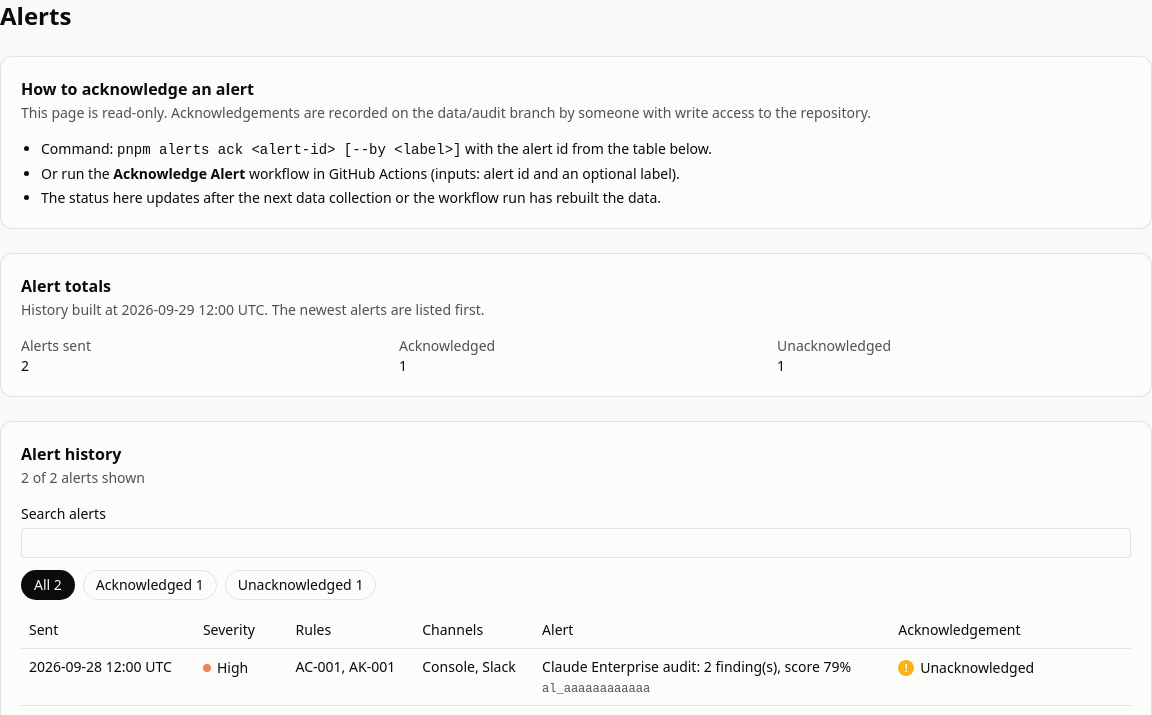
Test case: Alerts page › searches and reports no match
Step 1. Type "discord" into the search field labelled "Search alerts" → (576, 543), box [21,528,1131,558]
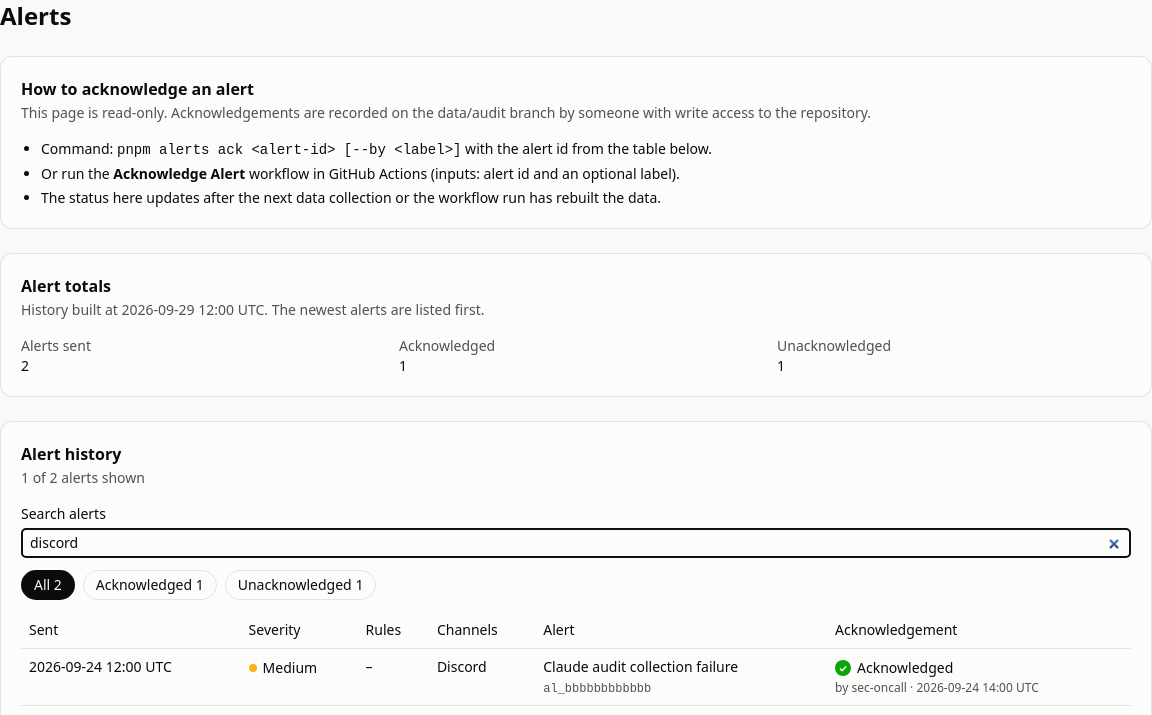
Check: the text "1 of 2 alerts shown" is shown, box [21,468,145,487]
Step 2. Replace the text in the search field labelled "Search alerts" with "zzzz" → (576, 543), box [21,528,1131,558]
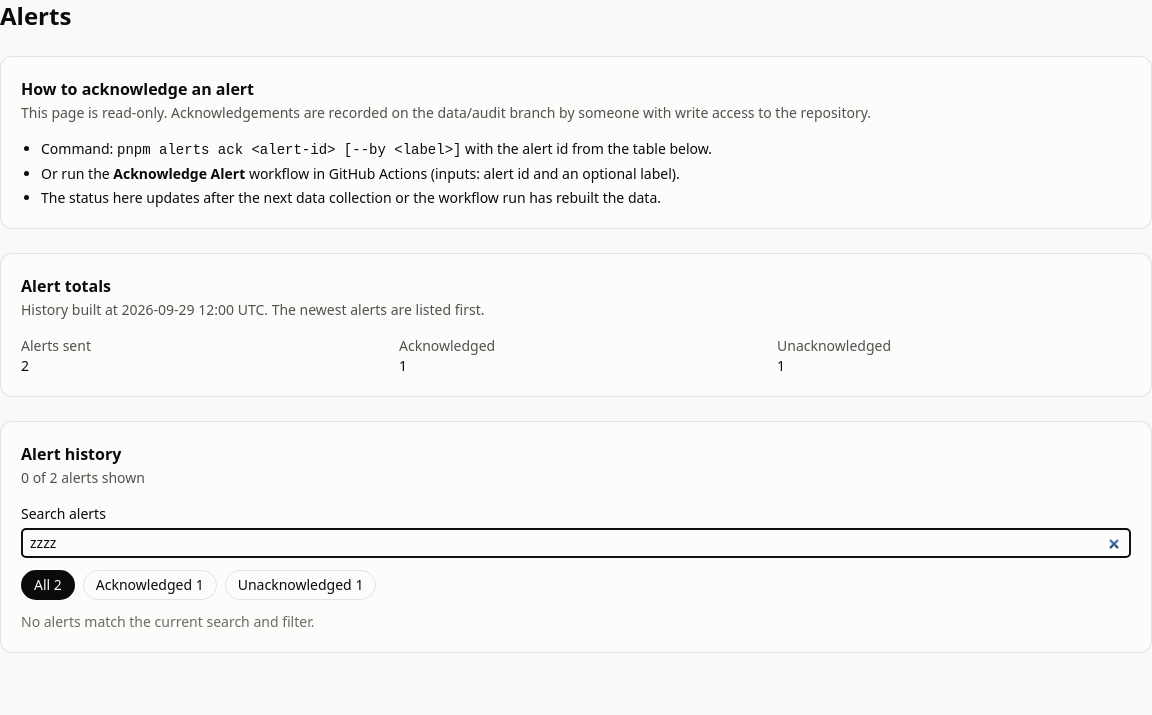
Check: the text "No alerts match the current search and filter." is shown, box [21,612,314,631]
